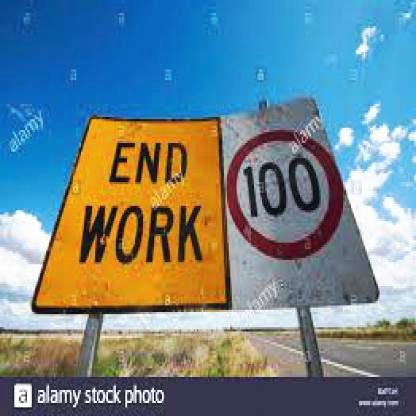Speed Limit -100-: (224, 125, 348, 261)
